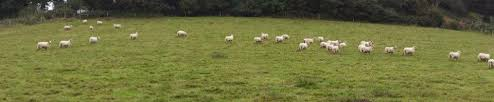sheep: (358, 43, 375, 55), (36, 41, 54, 51), (477, 51, 493, 62), (402, 45, 418, 56), (450, 50, 462, 64), (59, 39, 74, 50), (359, 38, 377, 47), (224, 33, 236, 46), (281, 32, 293, 44), (113, 23, 125, 34), (297, 42, 310, 52), (129, 31, 139, 43), (87, 36, 102, 44), (261, 32, 272, 42), (383, 46, 395, 55), (177, 29, 189, 38), (325, 39, 338, 47), (323, 43, 333, 53), (336, 40, 347, 49), (487, 57, 494, 70), (332, 44, 340, 55), (303, 37, 314, 44), (62, 24, 73, 31), (253, 36, 263, 43), (317, 36, 324, 45), (273, 35, 282, 42), (81, 18, 90, 25), (88, 24, 95, 32), (96, 20, 104, 26)
